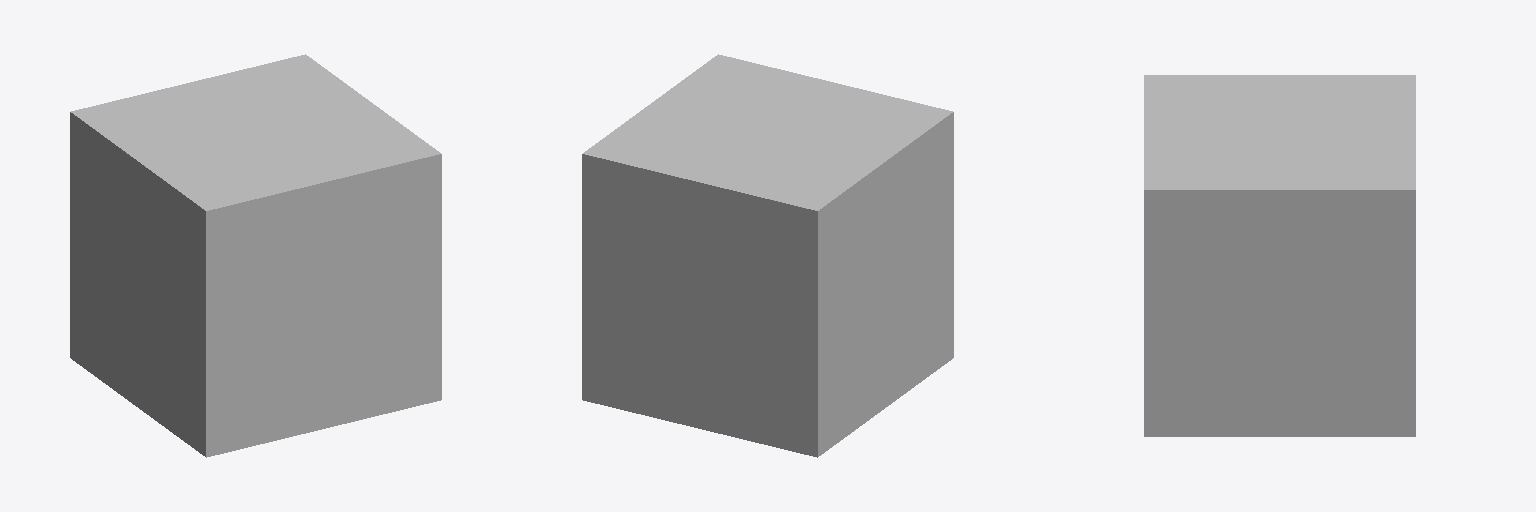
File: obstacle2_vhacd.obj
3 views of the same model, side by side, from view 1: azimuth 30°, elevation 25°; view 2: azimuth 150°, elevation 25°; view 3: azimuth 270°, elevation 25° (orthographic).
Visible parts, largest first — view 1: convex_0; view 2: convex_0; view 3: convex_0.
Boxes of the visible parts, x1,y1,x2,y2 form: convex_0: [70, 54, 441, 457]; convex_0: [582, 54, 953, 457]; convex_0: [1144, 75, 1415, 436].
Bounding box in the file's own units: 101 × 101 × 101.